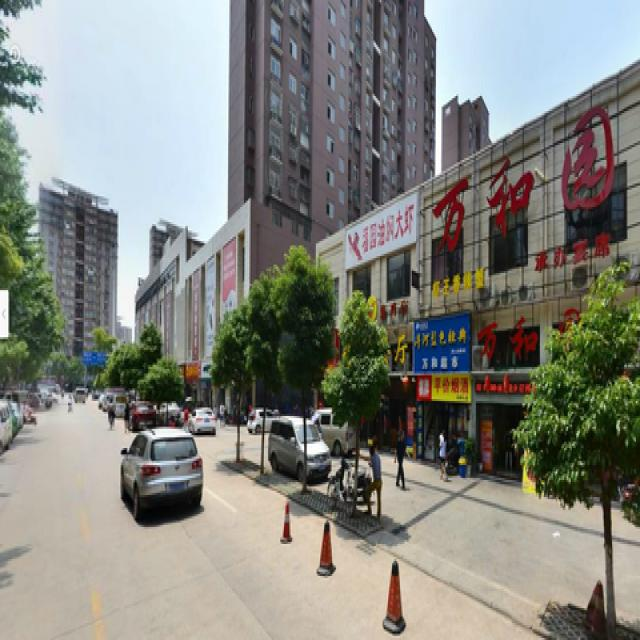cinn: (548, 296, 624, 623), (282, 265, 326, 497), (338, 286, 378, 510), (248, 282, 273, 474), (212, 320, 241, 482)
